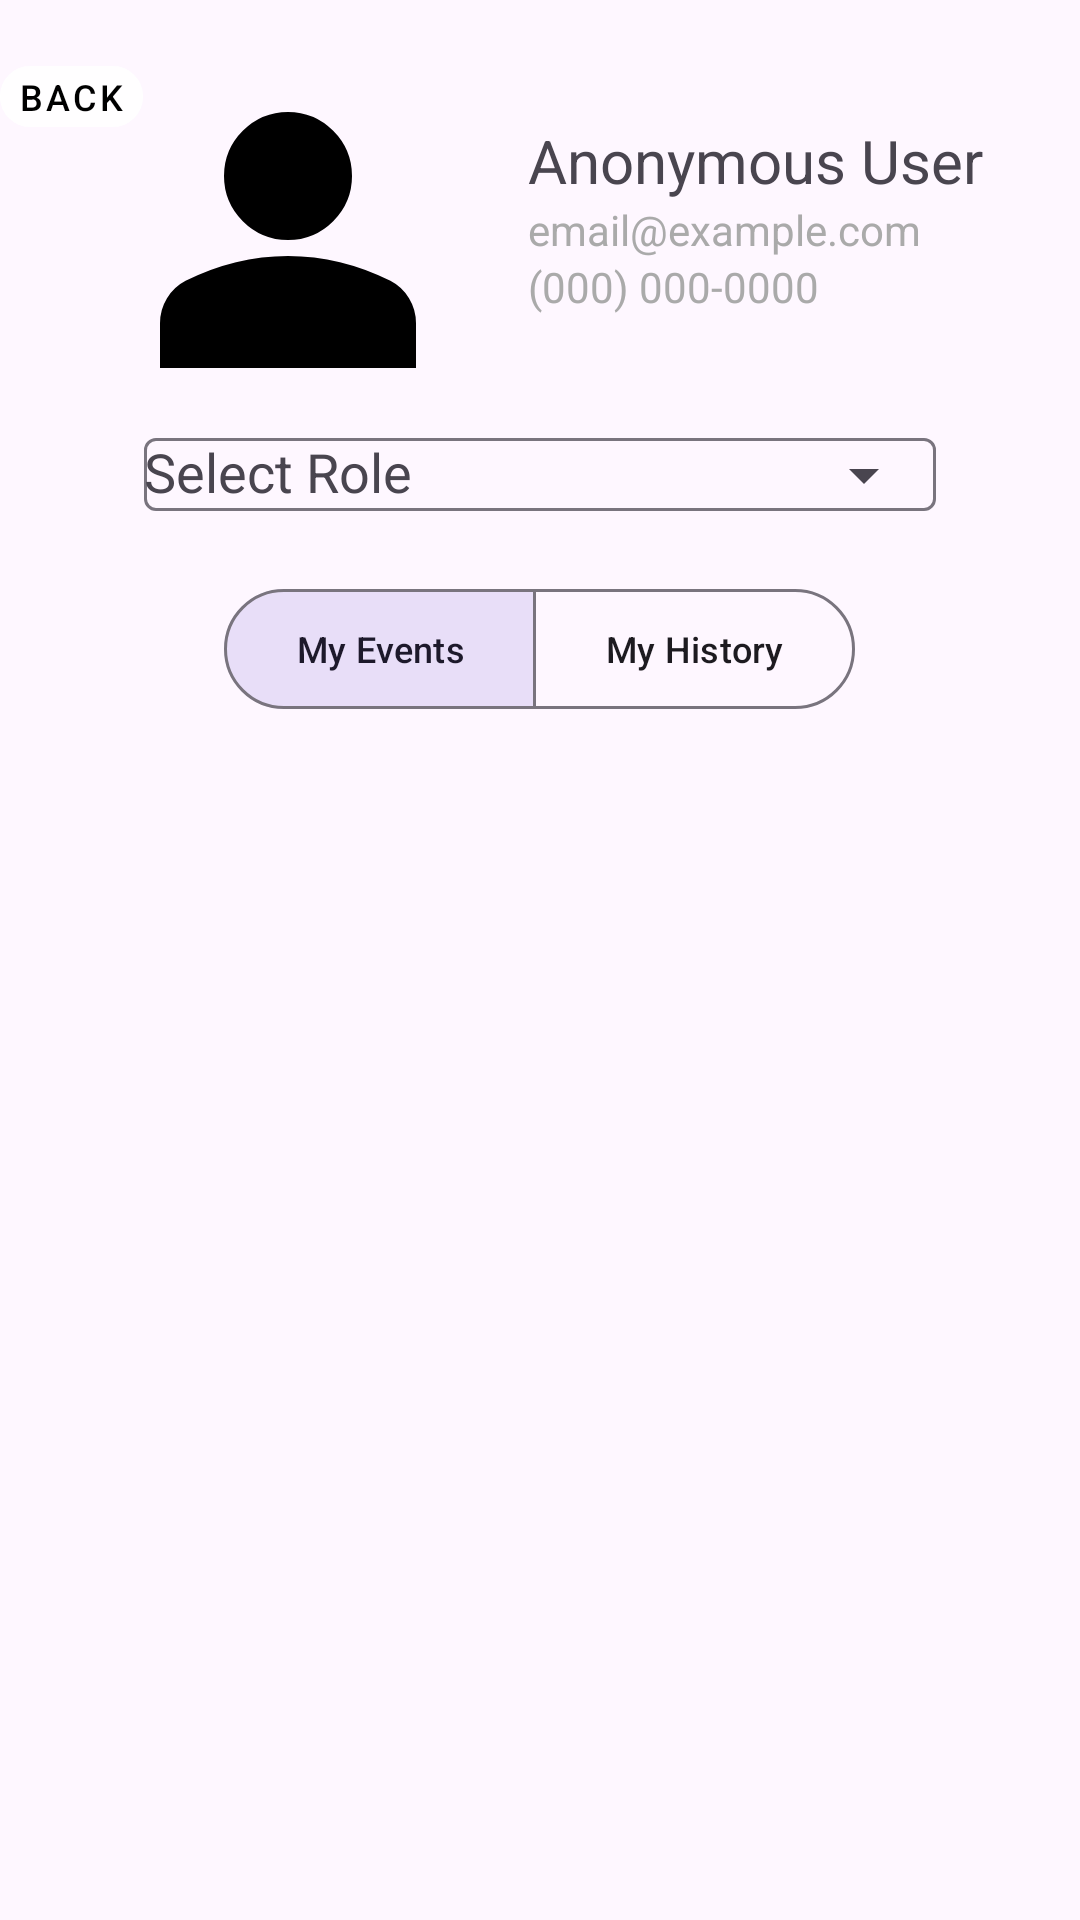

Icon click points for this 1080 × 1920 phone screenshot, format (x=x, y=y):
person: (x=259, y=226)
